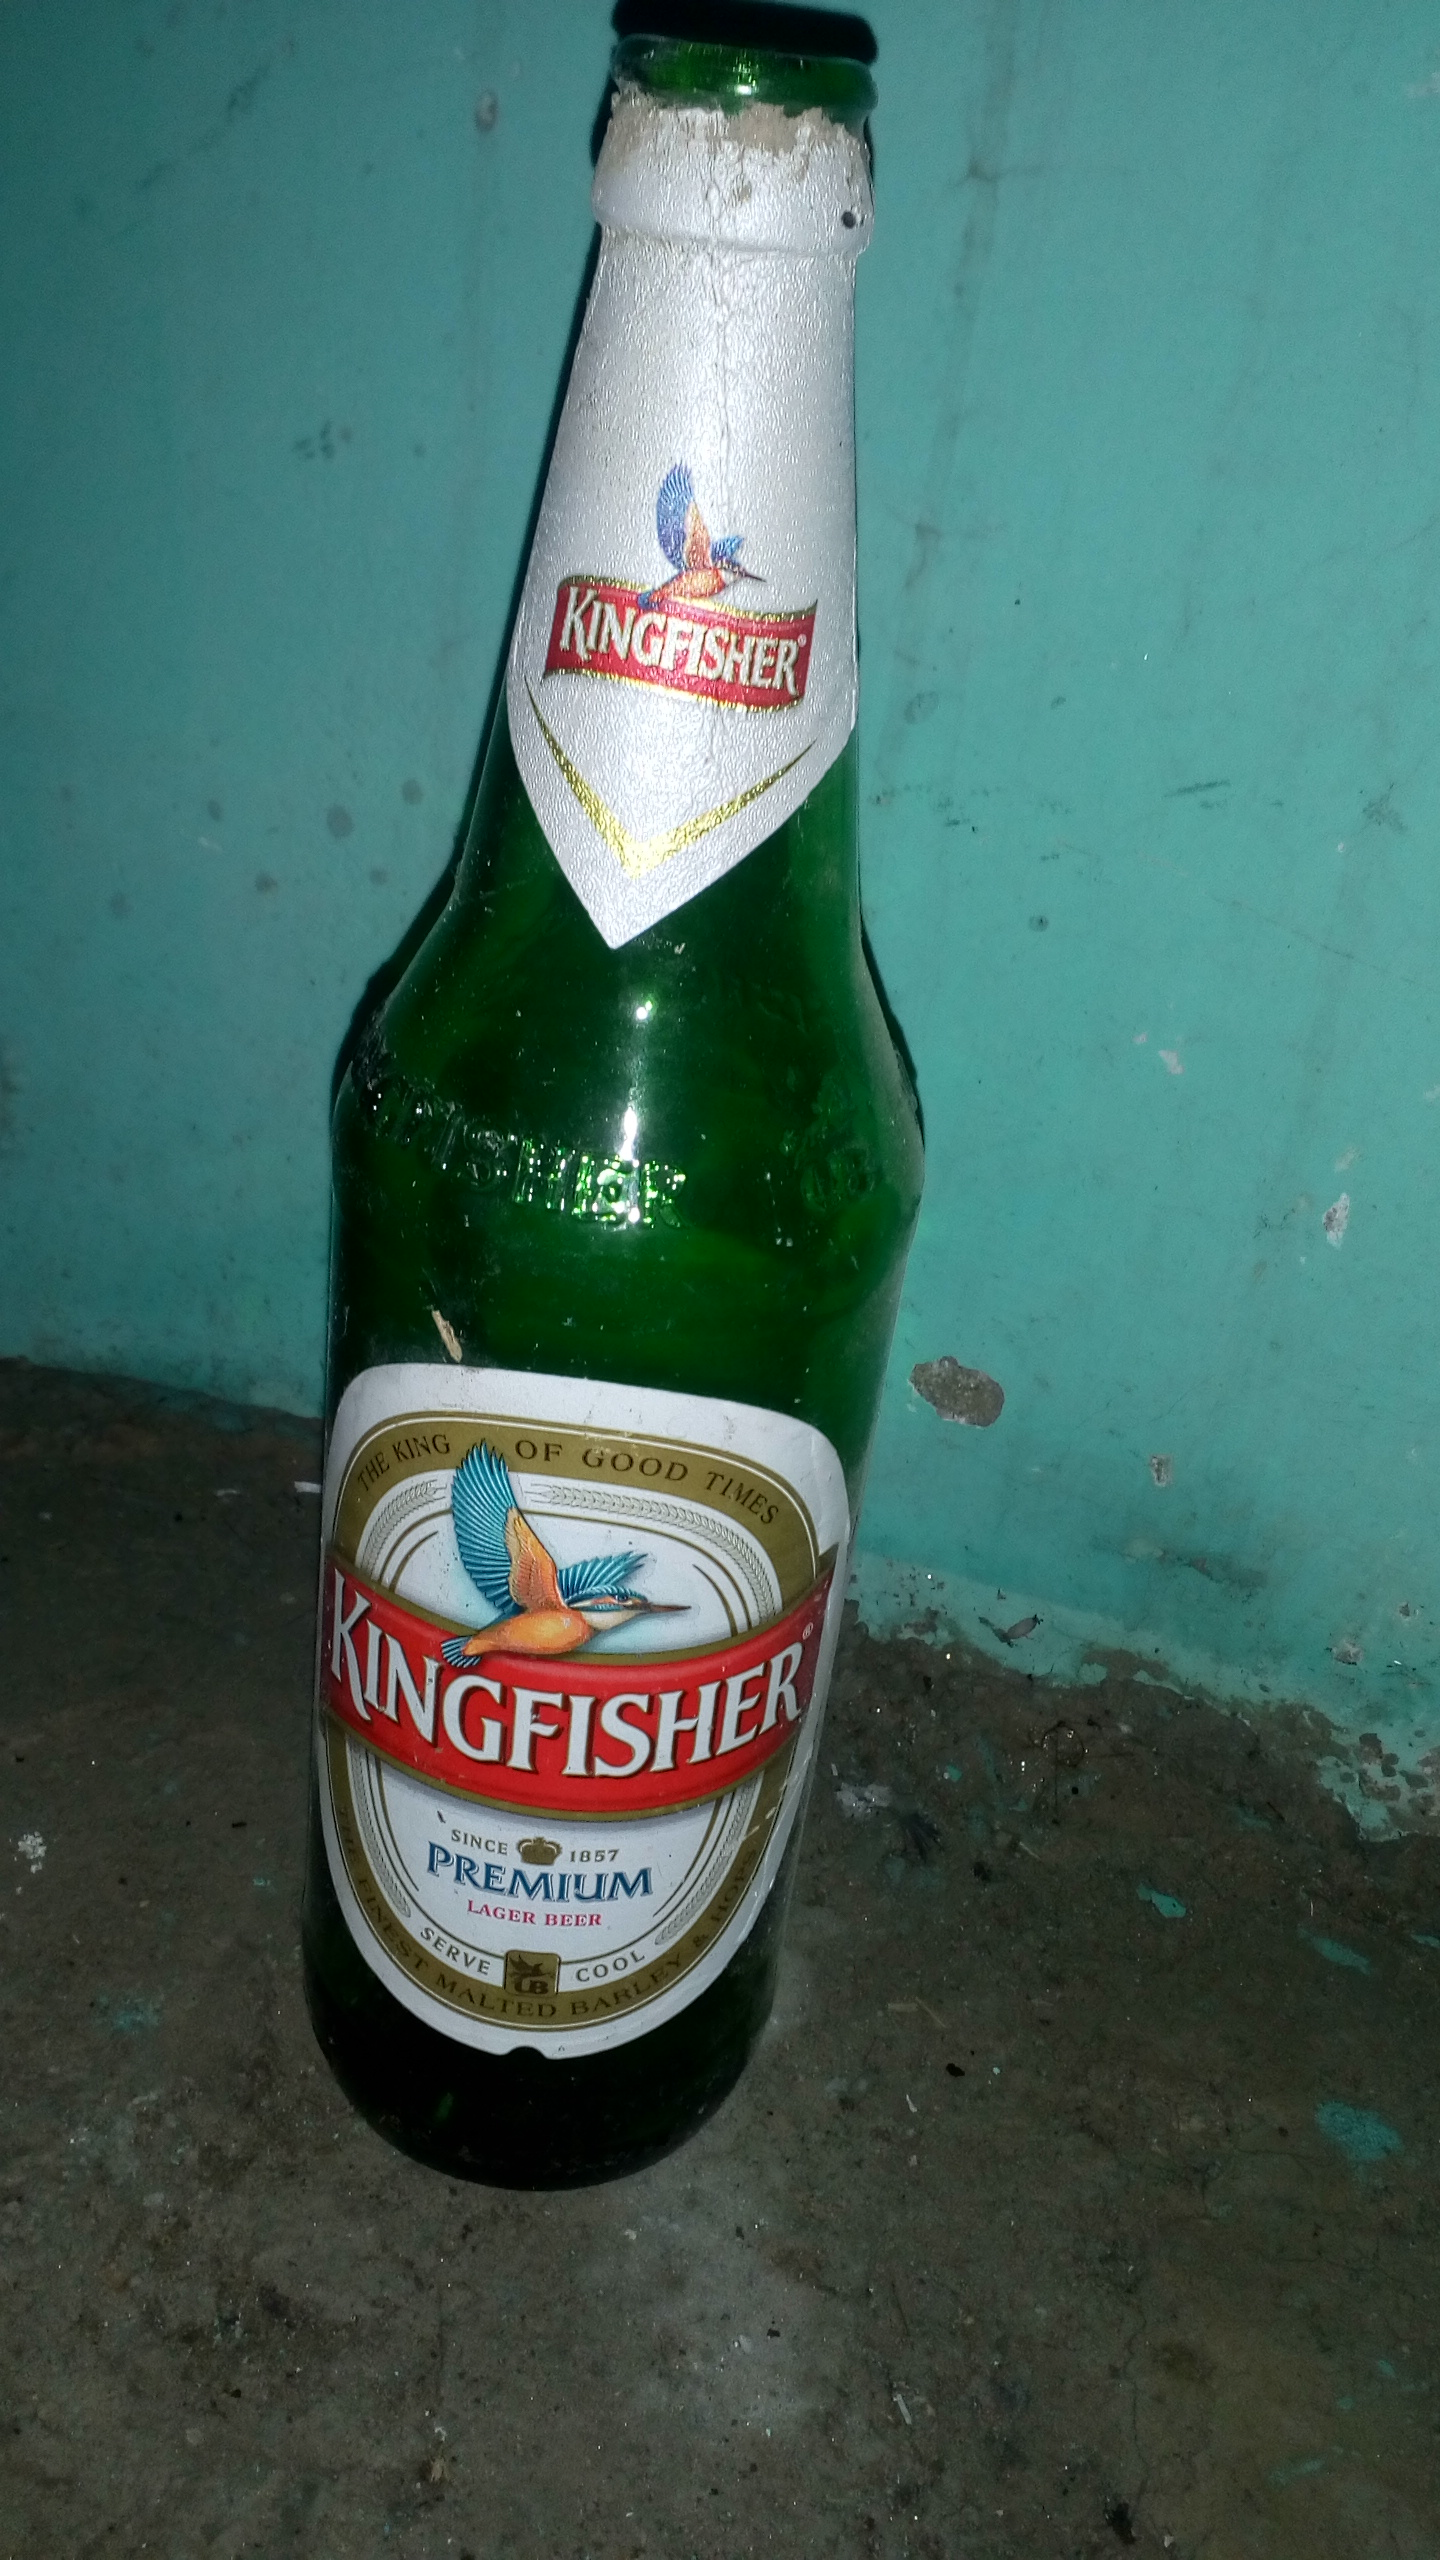glass_bottle: (244, 5, 972, 2217)
